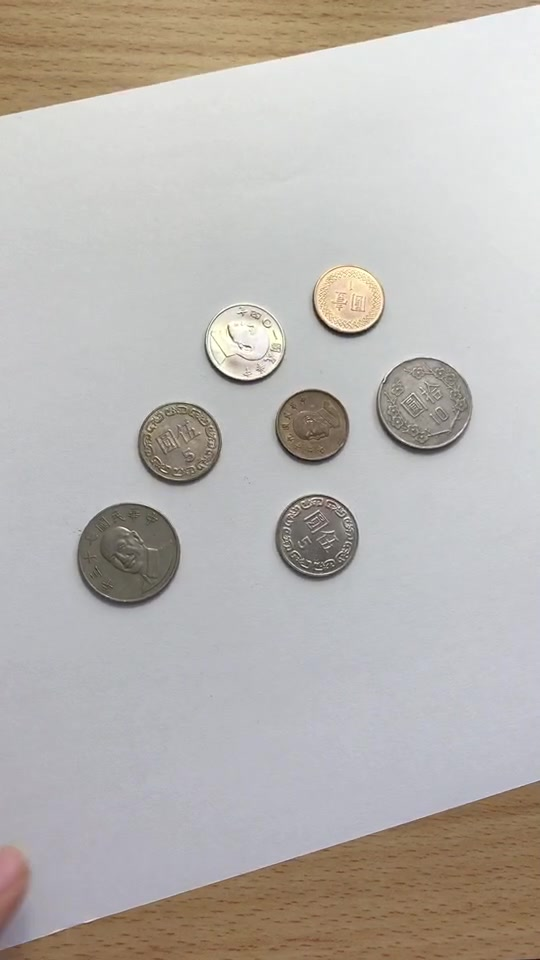1 dallar: (268, 383, 353, 467), (305, 257, 390, 341)
10 dallar: (74, 497, 184, 606), (367, 348, 477, 457)
5 dallar: (130, 396, 231, 489), (188, 294, 289, 387), (267, 487, 368, 580)
